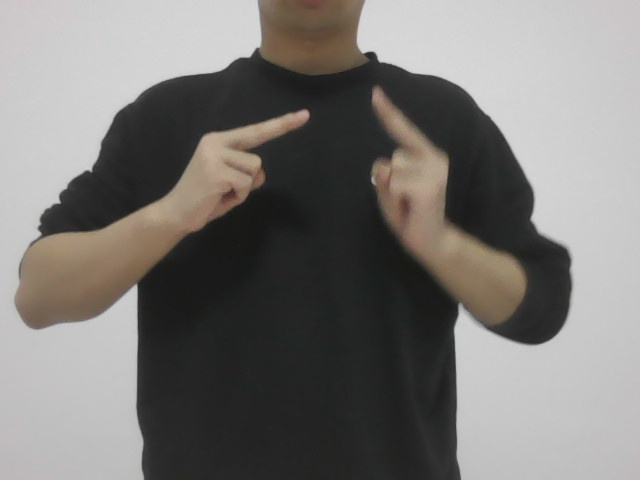know: (151, 94, 452, 273)
